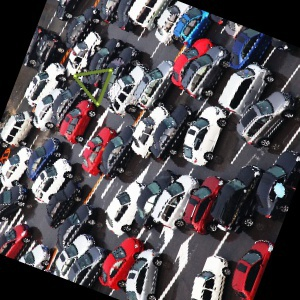triangle: (70, 66, 115, 109)
